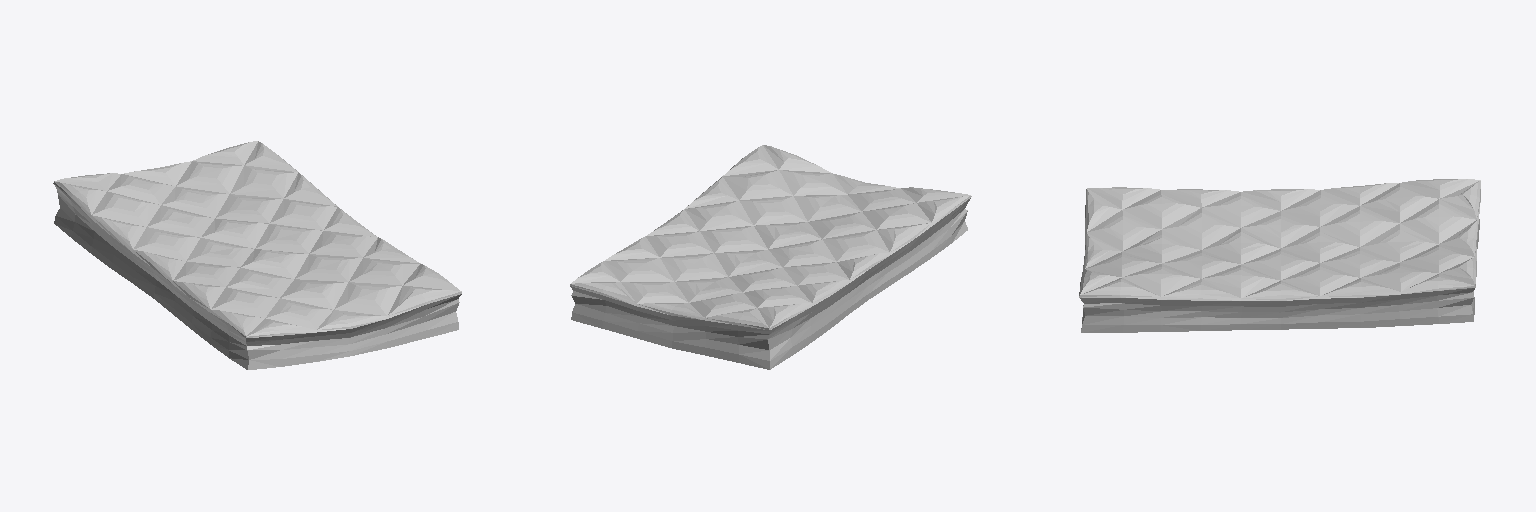
File: bed_mattress low.obj
The picture shows the model from 3 angles: view 1: azimuth 30°, elevation 25°; view 2: azimuth 150°, elevation 25°; view 3: azimuth 270°, elevation 25°; orthographic projection.
Parts seen in each view (by area): view 1: bed_mattress1:Group43081; view 2: bed_mattress1:Group43081; view 3: bed_mattress1:Group43081.
Part boxes in pixels (x1,y1,x2,y2): bed_mattress1:Group43081: (53,141,461,369); bed_mattress1:Group43081: (570,145,971,369); bed_mattress1:Group43081: (1079,179,1480,332).
Bounding box in the file's own units: 119 × 31.26 × 193.